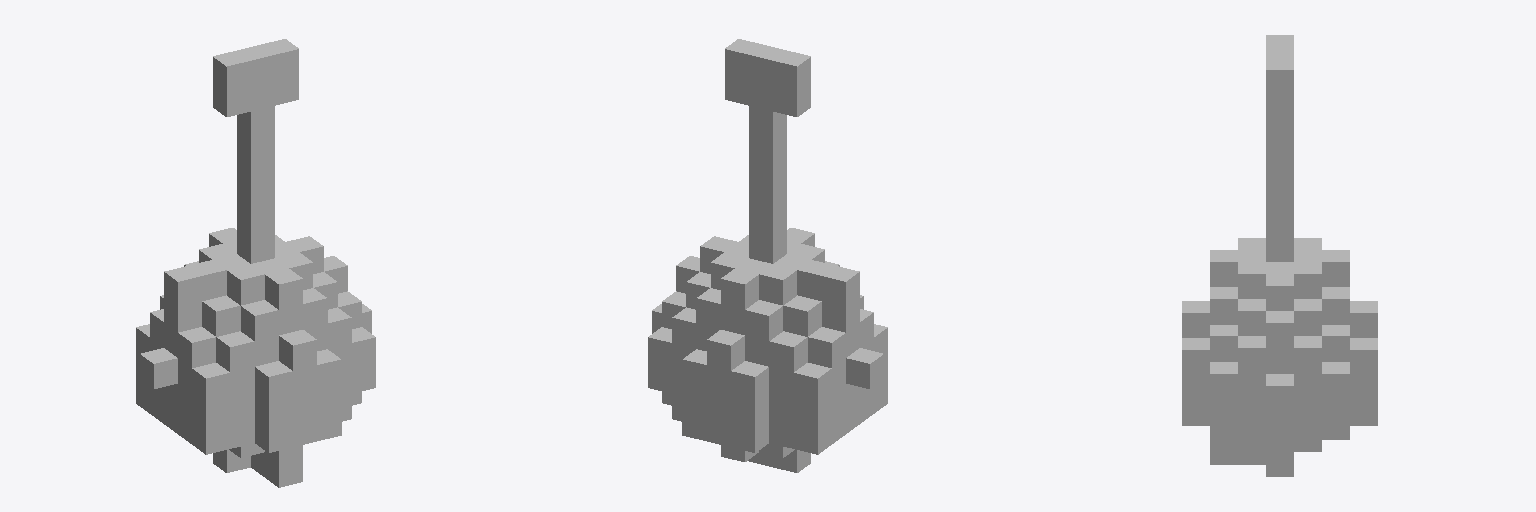
File: VoidEdge V2-0.obj
3 renders of one model, left to right at view 1: azimuth 30°, elevation 25°; view 2: azimuth 150°, elevation 25°; view 3: azimuth 270°, elevation 25°, orthographic.
Visible parts, largest first — view 1: object 1; view 2: object 1; view 3: object 1.
Boxes of the visible parts, <box> form: object 1: <box>136,39,375,487</box>; object 1: <box>648,39,887,472</box>; object 1: <box>1182,35,1377,476</box>.
Bounding box in the file's own units: 0.9 × 1.6 × 0.7.